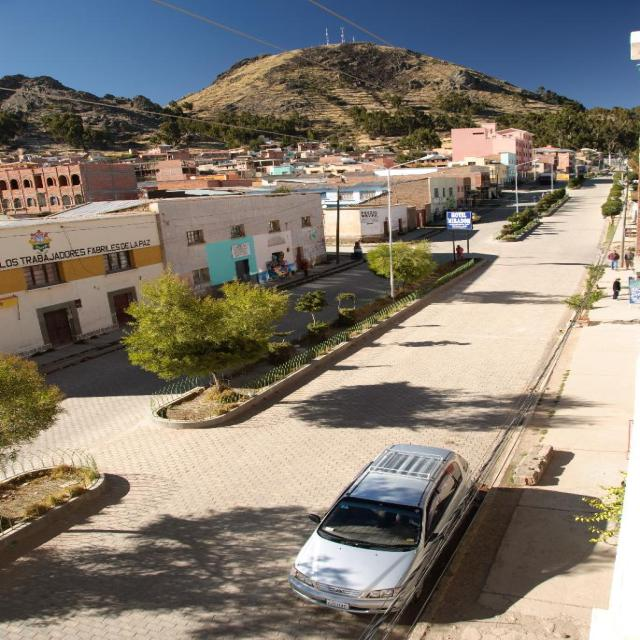car: (284, 444, 470, 616)
